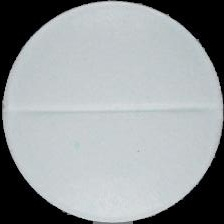50111-456: (0, 0, 224, 224)
